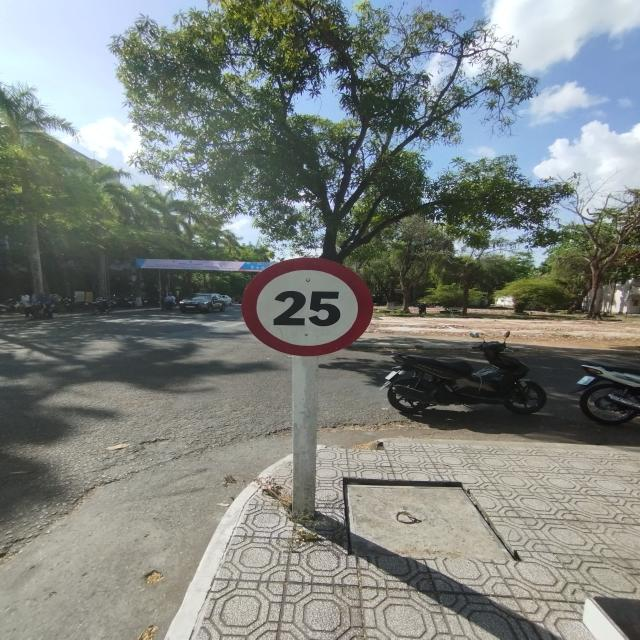Tre_Em: (241, 256, 374, 357)
